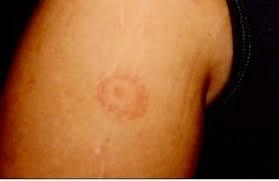Tick: (97, 71, 148, 119)
